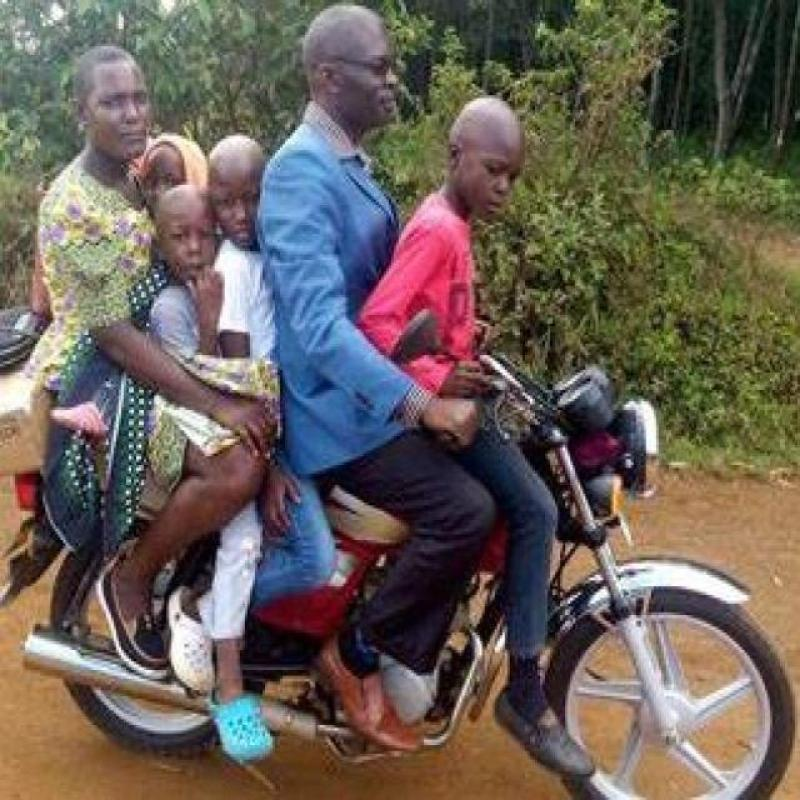nohelmet: (438, 74, 552, 236), (288, 1, 418, 129), (60, 32, 160, 180)
